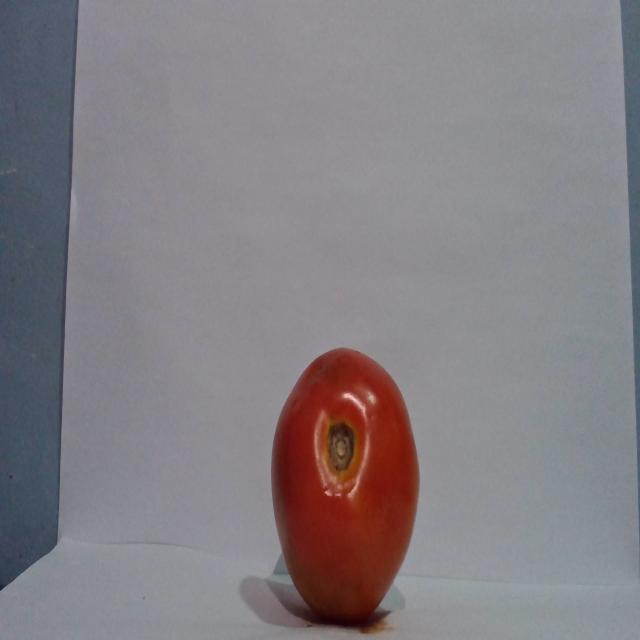Red: (268, 346, 421, 623)
